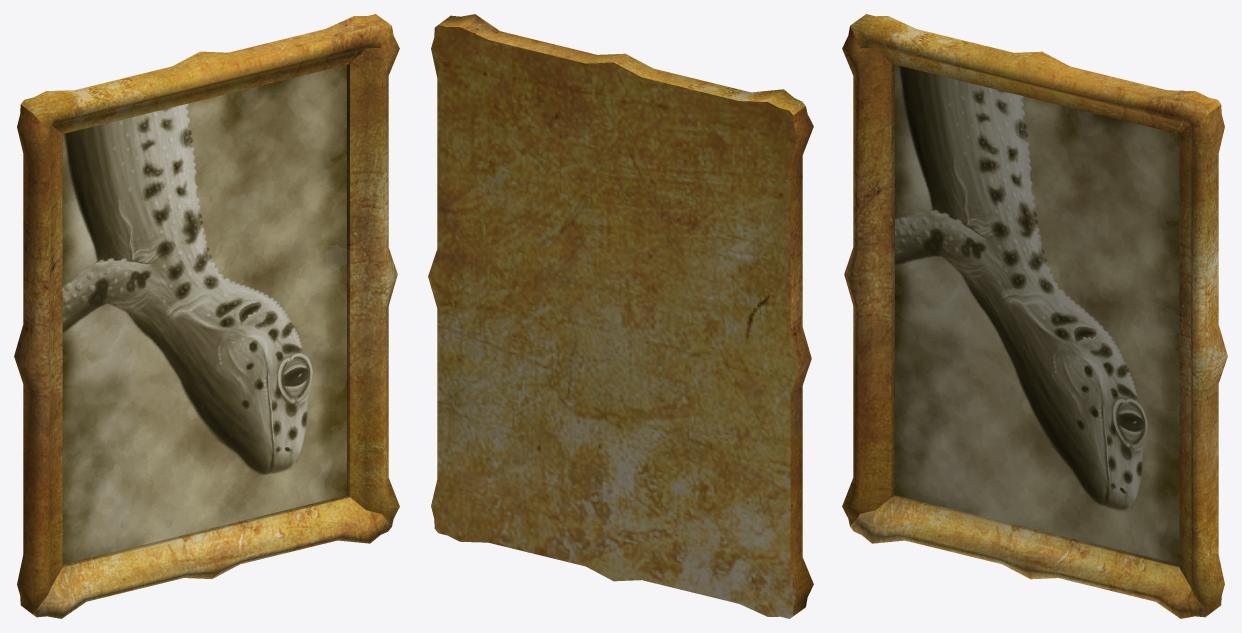
Rendered from rem_painting17.dae.
3 renders of one model, left to right at view 1: azimuth 30°, elevation 25°; view 2: azimuth 150°, elevation 25°; view 3: azimuth 330°, elevation 25°, orthographic.
Visible parts, largest first — view 1: painting_image05, painting_frame05; view 2: painting_frame05; view 3: painting_image05, painting_frame05.
Part boxes in pixels (<box>): painting_image05: <box>62,65,346,564</box>; painting_frame05: <box>14,14,399,618</box>; painting_frame05: <box>428,14,813,618</box>; painting_image05: <box>895,65,1179,564</box>; painting_frame05: <box>842,14,1227,618</box>.
Bounding box in the file's own units: 1.8 × 2.4 × 0.134.
